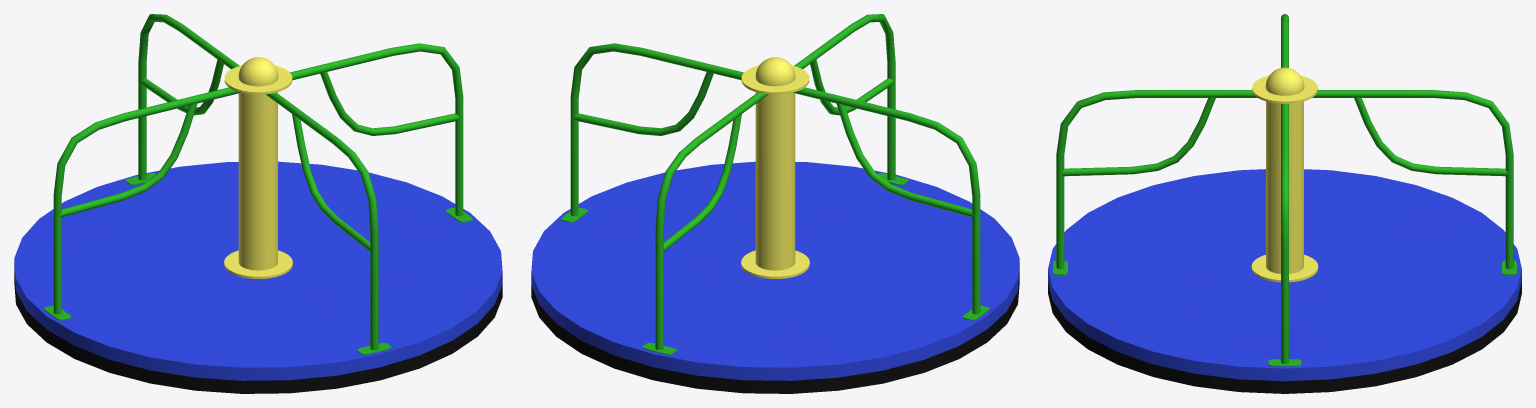
Rendered from carousel.glb.
The picture shows the model from 3 angles, left to right: view 1: azimuth 30°, elevation 25°; view 2: azimuth 150°, elevation 25°; view 3: azimuth 270°, elevation 25°; orthographic projection. The views are drawn at different scales.
Parts seen in each view (by area): view 1: carousel; view 2: carousel; view 3: carousel.
Boxes of the visible parts, x1,y1,x2,y2 form: carousel: [14, 14, 502, 393]; carousel: [531, 14, 1019, 393]; carousel: [1048, 14, 1521, 393].
Size of the model in its own units: 2.43 by 1.27 by 2.43.
Materials: 1 (1 with a texture image).
